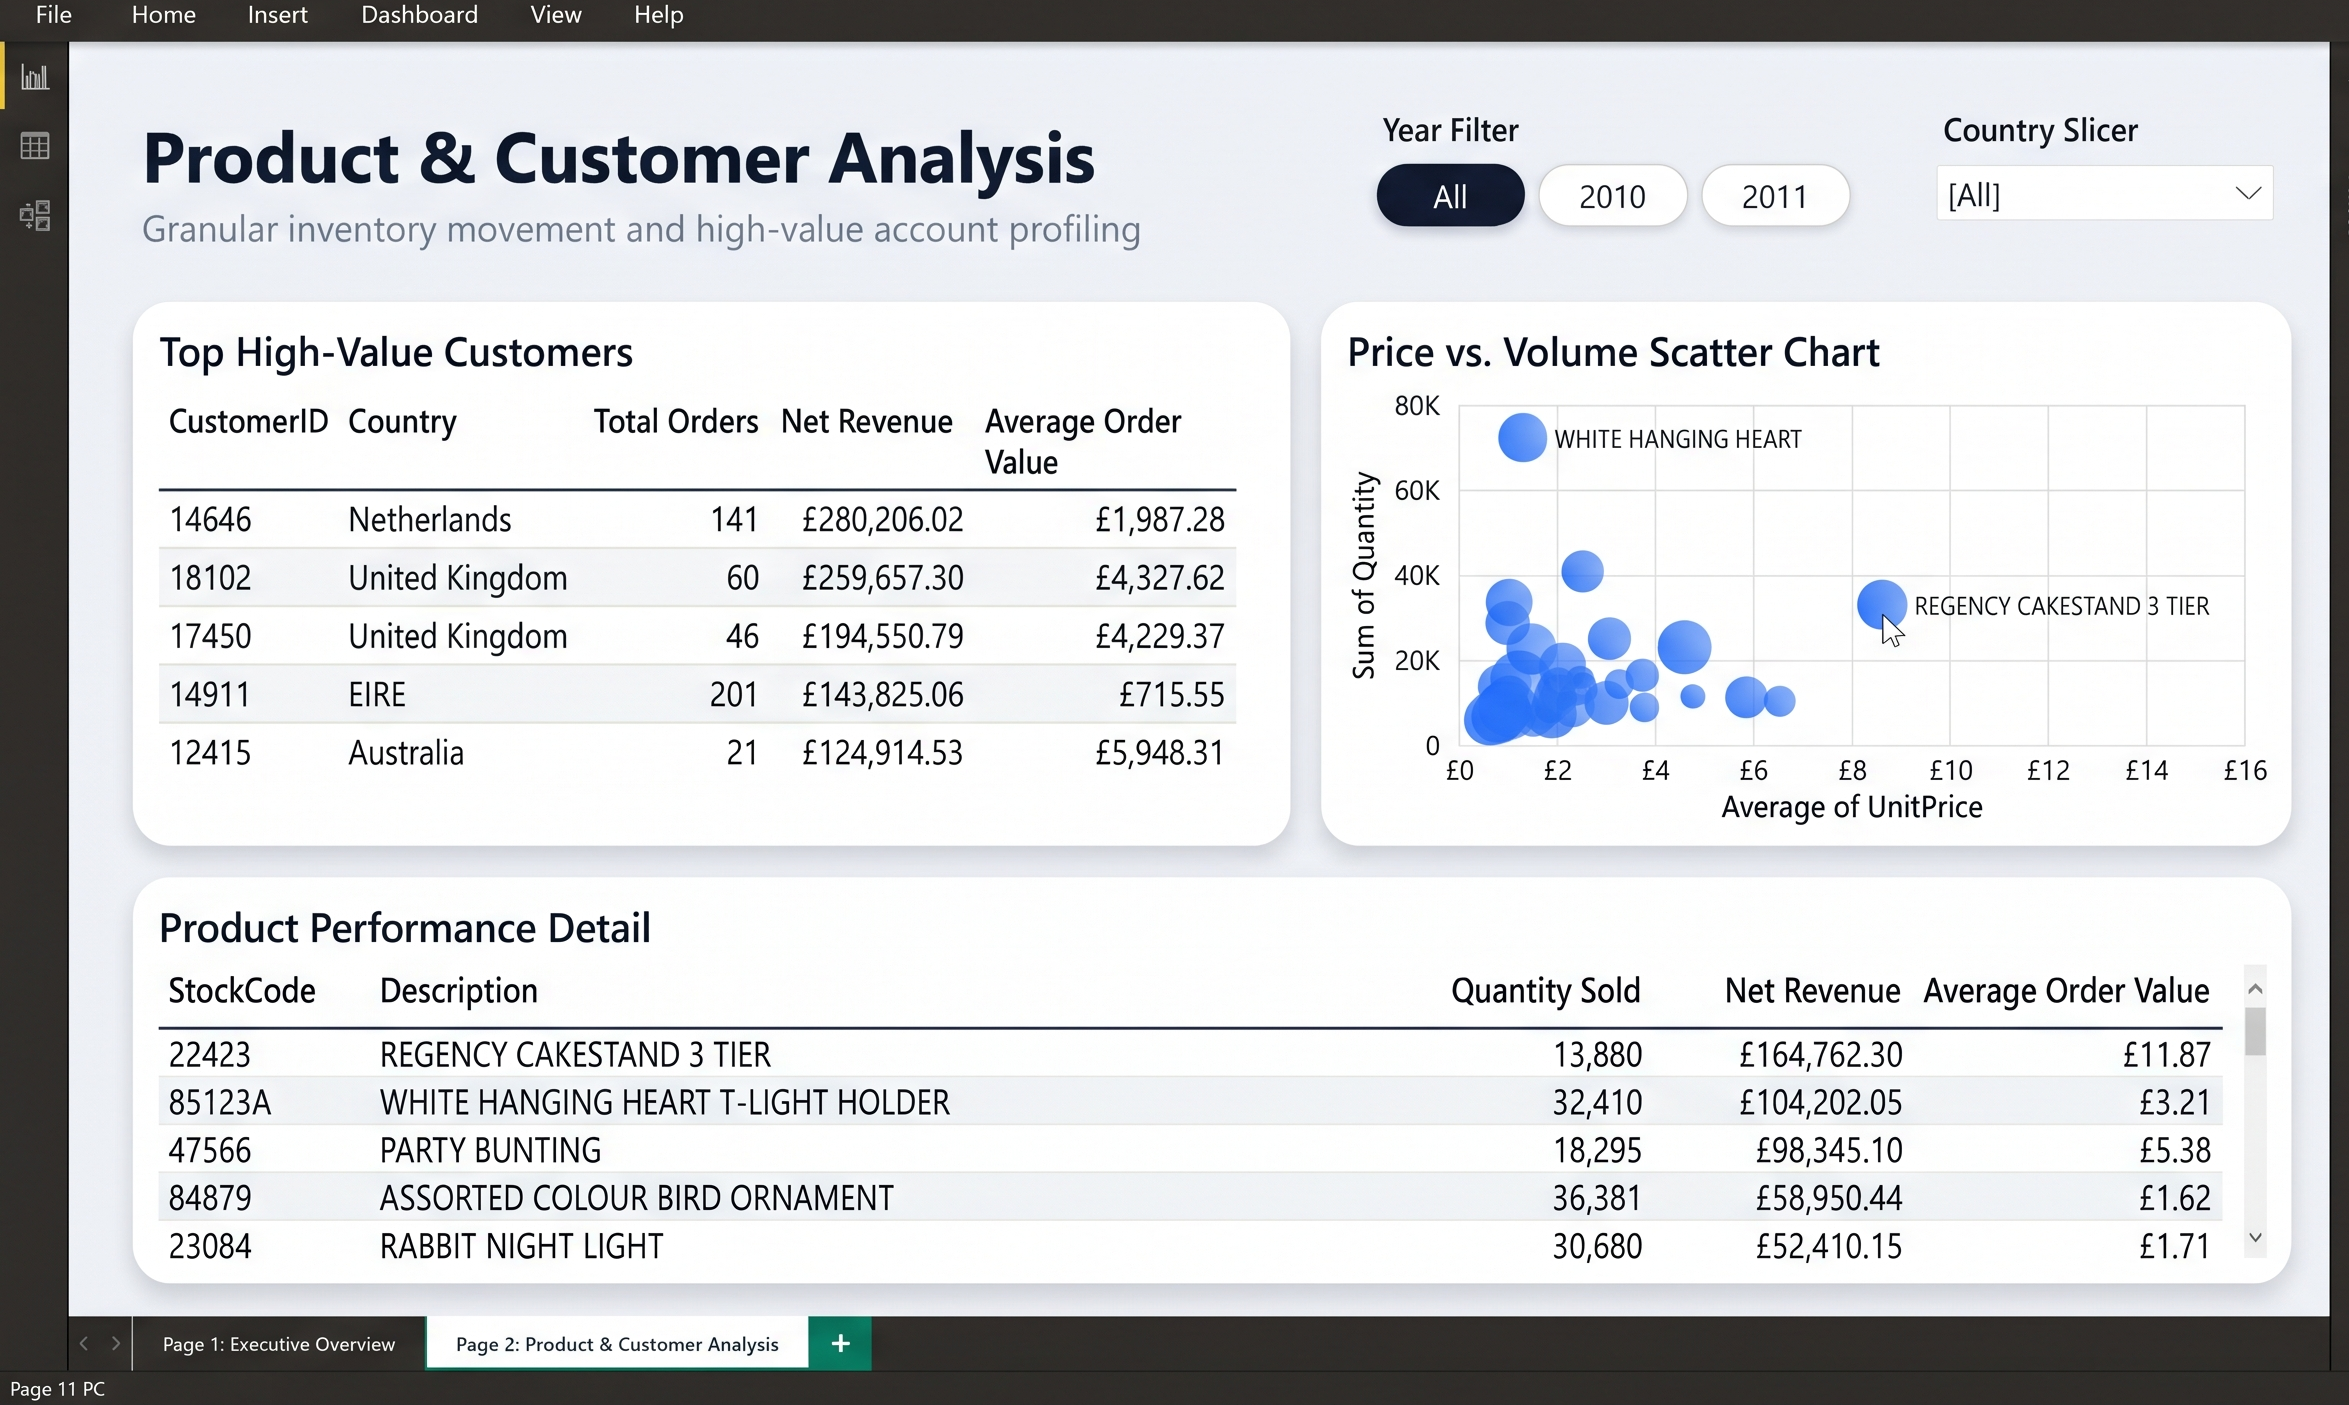

What the dashboard file says about the page in this screenshot:
{"tool":"powerbi","page":{"name":"Page 2Product & Customer Analysis","canvas":[1280,720],"ordinal":1},"visuals":[{"type":"slicer","fields":{"Values":["Dim_Date.Year"]},"box":[949.6,22,155.1,112.5],"z":0},{"type":"slicer","fields":{"Values":["Dim_Customer.Country"]},"box":[1125.2,22,155.1,112.5],"z":1000},{"type":"pivotTable","fields":{"Rows":["Dim_Customer.CustomerID","Dim_Customer.Country"],"Values":["_Key Measures.Total Orders","_Key Measures.Average Order Value","_Key Measures.Net Revenue"]},"box":[43.9,134.5,413,263.5],"z":2000},{"type":"tableEx","fields":{"Values":["Dim_Product.StockCode","Dim_Product.Description","Sum(Fact_Sales.Quantity)","_Key Measures.Net Revenue","_Key Measures.Average Order Value"]},"box":[572.2,380.1,708.1,340.3],"z":3000},{"type":"scatterChart","fields":{"Category":["Dim_Product.Description"],"X":["Avg(Fact_Sales.UnitPrice)"],"Y":["Sum(Fact_Sales.Quantity)"],"Size":["_Key Measures.Net Revenue"]},"box":[39.8,419.9,417.2,300.5],"z":4000},{"type":"textbox","title":"Product & Customer Analysis","box":[39.8,32.9,417.2,89.2],"z":4001}]}

Visuals, with their boxes on the page's 1280x720 design canvas (x1, y1, x2, y2). These are canvas units, not pixel positions in the 2349x1405 screenshot, which may show the page scaled, cropped or inside an application window:
slicer - Dim_Date.Year: l=950, t=22, r=1105, b=134
slicer - Dim_Customer.Country: l=1125, t=22, r=1280, b=134
pivotTable - Dim_Customer.CustomerID x Dim_Customer.Country: l=44, t=134, r=457, b=398
tableEx - Dim_Product.StockCode x Dim_Product.Description: l=572, t=380, r=1280, b=720
scatterChart - Dim_Product.Description x Avg(Fact_Sales.UnitPrice): l=40, t=420, r=457, b=720
"Product & Customer Analysis" textbox: l=40, t=33, r=457, b=122
